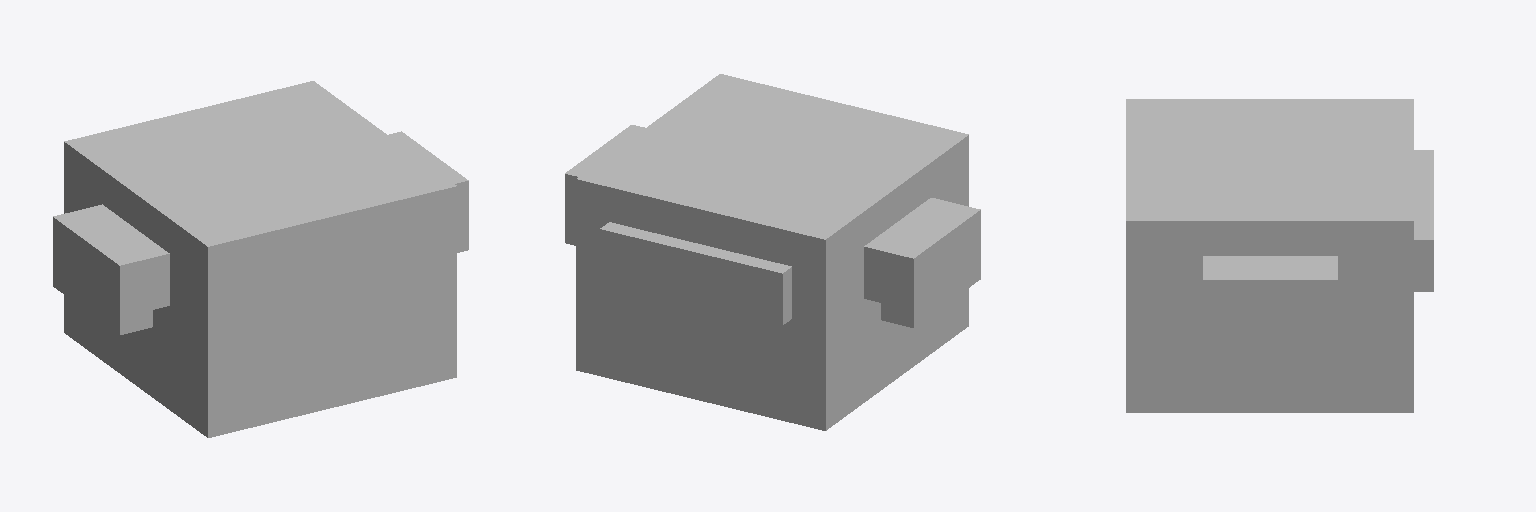
The model's file is head_female_eyes_right.obj.
3 renders of one model, left to right at view 1: azimuth 30°, elevation 25°; view 2: azimuth 150°, elevation 25°; view 3: azimuth 270°, elevation 25°, orthographic.
Parts seen in each view (by area): view 1: object 1; view 2: object 1; view 3: object 1.
Boxes of the visible parts, box(x1,y1,x2,y2) form: object 1: box(53, 81, 468, 437); object 1: box(565, 74, 980, 430); object 1: box(1126, 99, 1433, 412).
Bounding box in the file's own units: 1.4 × 0.7333 × 1.07.